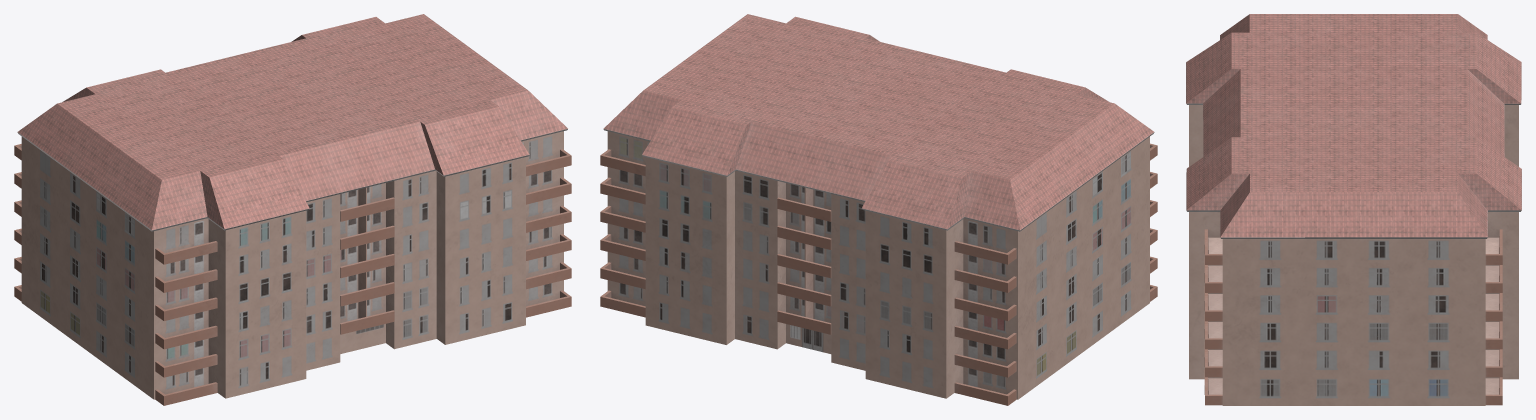
Rendered from low_poly_apartment_building.glb.
The picture shows the model from 3 angles, left to right: view 1: azimuth 30°, elevation 25°; view 2: azimuth 150°, elevation 25°; view 3: azimuth 270°, elevation 25°; orthographic projection.
Parts seen in each view (by area): view 1: Object_2; view 2: Object_2; view 3: Object_2.
Part boxes in pixels (x1,y1,x2,y2): Object_2: (14,14,571,405); Object_2: (600,14,1157,405); Object_2: (1186,14,1521,405).
Bounding box in the file's own units: 4643 × 2176 × 3257.
1 material, 1 textured.
